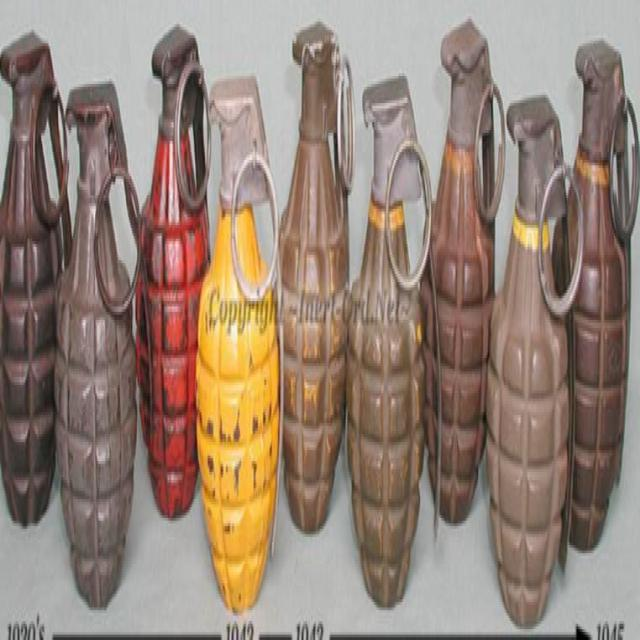grenade: (486, 96, 585, 633), (347, 72, 444, 617), (58, 82, 146, 615), (198, 77, 284, 617), (554, 39, 640, 554), (423, 14, 506, 530), (278, 20, 356, 537), (136, 34, 216, 527), (1, 36, 75, 533)
